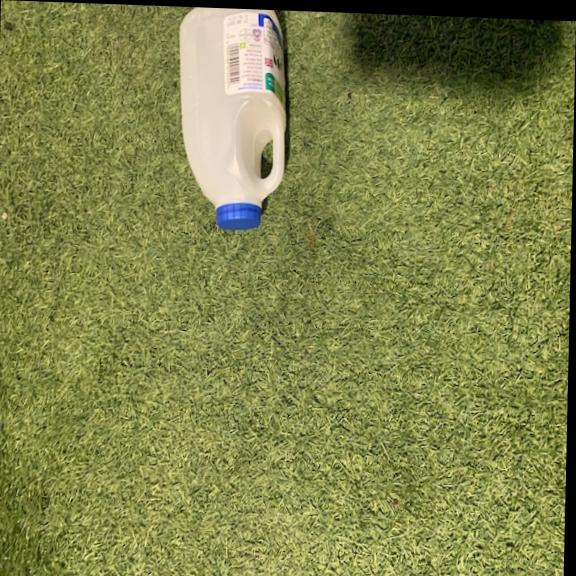Plastik: (172, 7, 288, 235)
